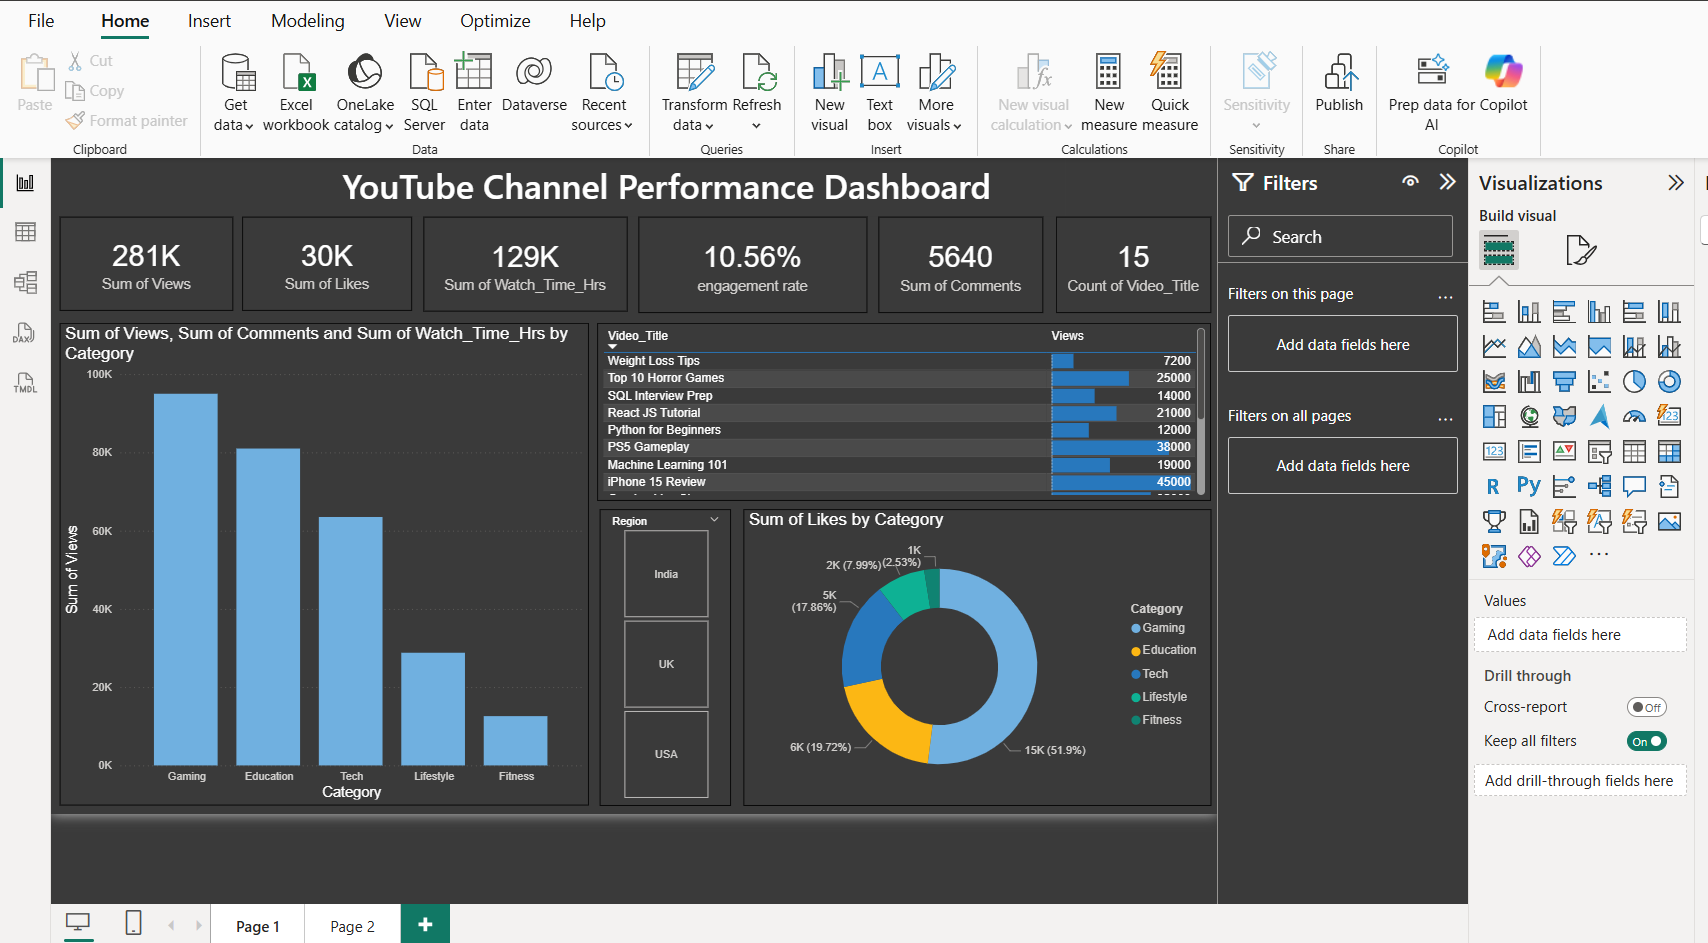

What the dashboard file says about the page in this screenshot:
{"tool":"powerbi","page":{"name":"Page 1","canvas":[1280,720],"ordinal":0},"visuals":[{"type":"card","fields":{"Values":["Sum(YouTube Dashboard Sheet.Views)"]},"box":[9.6,64.5,190.7,102.9],"z":0},{"type":"clusteredColumnChart","fields":{"Category":["YouTube Dashboard Sheet.Category"],"Y":["Sum(YouTube Dashboard Sheet.Views)"]},"box":[9.6,181.1,580.4,529.7],"z":1000},{"type":"slicer","fields":{"Values":["YouTube Dashboard Sheet.Region"]},"box":[602.4,385.6,144.1,325.2],"z":2000},{"type":"textbox","box":[237.1,0,877.1,64.3],"z":3000},{"type":"card","fields":{"Values":["Sum(YouTube Dashboard Sheet.Likes)"]},"box":[209.9,64.5,186.6,102.9],"z":4000},{"type":"card","fields":{"Values":["Sum(YouTube Dashboard Sheet.Watch_Time_Hrs)"]},"box":[408.9,64.5,223.7,104.3],"z":5000},{"type":"card","fields":{"Values":["YouTube Dashboard Sheet.engagement rate"]},"box":[644.9,64.5,251.1,105.7],"z":6000},{"type":"card","fields":{"Values":["Sum(YouTube Dashboard Sheet.Comments)"]},"box":[908.4,64.5,181.1,105.7],"z":7000},{"type":"card","fields":{"Values":["Count(YouTube Dashboard Sheet.Video_Title)"]},"box":[1103.3,64.5,170.2,105.7],"z":8000},{"type":"tableEx","fields":{"Values":["YouTube Dashboard Sheet.Video_Title","YouTube Dashboard Sheet.Views"]},"box":[599.7,181.1,673.8,194.9],"z":9000},{"type":"donutChart","fields":{"Category":["YouTube Dashboard Sheet.Category"],"Y":["Sum(YouTube Dashboard Sheet.Likes)"]},"box":[760.2,385.6,513.2,325.2],"z":10000}]}

Visuals, with their boxes on the page's 1280x720 design canvas (x1, y1, x2, y2). These are canvas units, not pixel positions in the 1708x943 screenshot, which may show the page scaled, cropped or inside an application window:
card - Sum(YouTube Dashboard Sheet.Views): 10, 64, 200, 167
clusteredColumnChart - YouTube Dashboard Sheet.Category x Sum(YouTube Dashboard Sheet.Views): 10, 181, 590, 711
slicer - YouTube Dashboard Sheet.Region: 602, 386, 746, 711
textbox: 237, 0, 1114, 64
card - Sum(YouTube Dashboard Sheet.Likes): 210, 64, 396, 167
card - Sum(YouTube Dashboard Sheet.Watch_Time_Hrs): 409, 64, 633, 169
card - YouTube Dashboard Sheet.engagement rate: 645, 64, 896, 170
card - Sum(YouTube Dashboard Sheet.Comments): 908, 64, 1090, 170
card - Count(YouTube Dashboard Sheet.Video_Title): 1103, 64, 1274, 170
tableEx - YouTube Dashboard Sheet.Video_Title x YouTube Dashboard Sheet.Views: 600, 181, 1274, 376
donutChart - YouTube Dashboard Sheet.Category x Sum(YouTube Dashboard Sheet.Likes): 760, 386, 1273, 711
